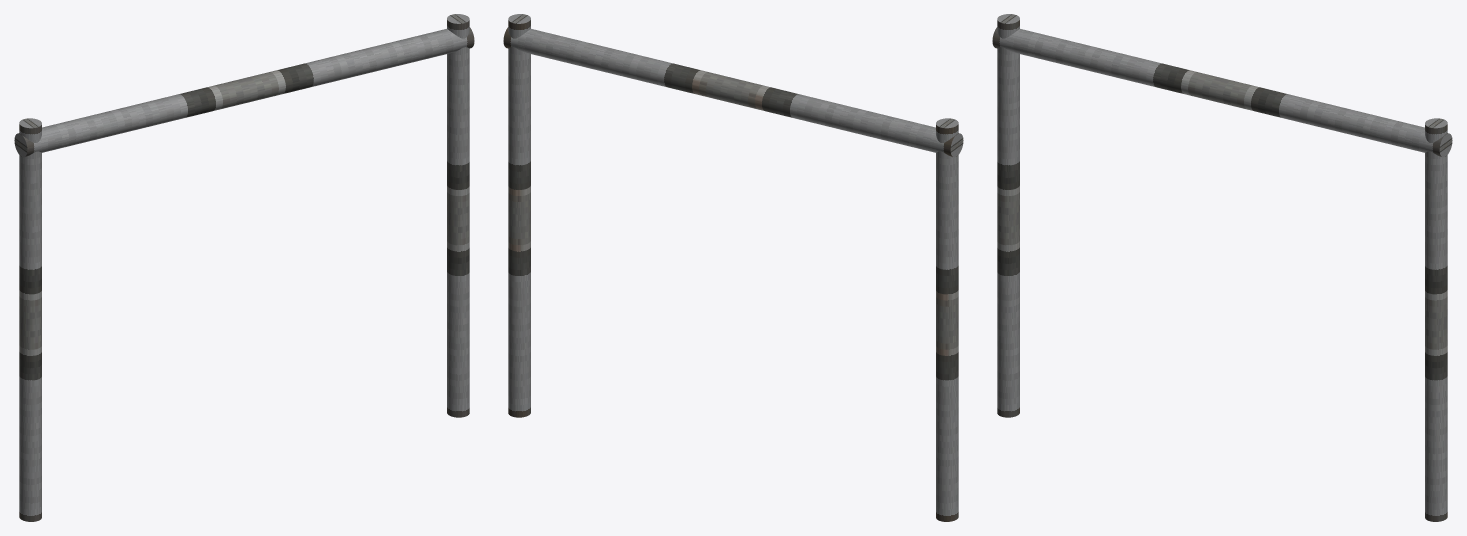
File: scba-piping.glb
3 views of the same model, side by side, from view 1: azimuth 30°, elevation 25°; view 2: azimuth 150°, elevation 25°; view 3: azimuth 330°, elevation 25° (orthographic).
Visible parts, largest first — view 1: riser (×2), crosspipe; view 2: riser (×2), crosspipe; view 3: riser (×2), crosspipe.
Boxes of the visible parts, x1,y1,x2,y2 form: riser (×2): (19, 14, 469, 521); crosspipe: (14, 27, 474, 157); riser (×2): (508, 14, 958, 521); crosspipe: (503, 27, 963, 157); riser (×2): (997, 14, 1447, 521); crosspipe: (992, 27, 1452, 157).
Bounding box in the file's own units: 0.5704 × 0.48 × 0.0286.
Materials: 1 (1 with a texture image).
